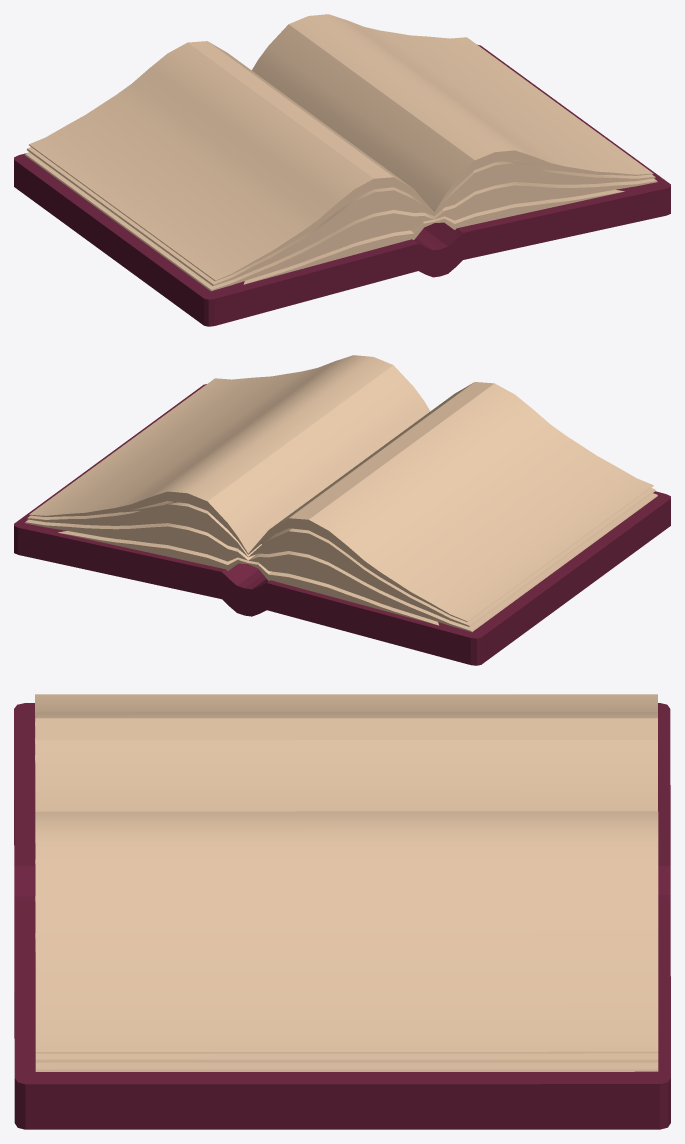
File: BookOpen.fbx
3 views of the same model, one above another, from view 1: azimuth 30°, elevation 25°; view 2: azimuth 150°, elevation 25°; view 3: azimuth 270°, elevation 25° (orthographic). The views are drawn at different scales.
Visible parts, largest first — view 1: OpenBook; view 2: OpenBook; view 3: OpenBook.
Boxes of the visible parts, <box> form: OpenBook: <box>14,14,670,326</box>; OpenBook: <box>14,355,670,665</box>; OpenBook: <box>14,694,670,1129</box>.
Size of the model in its own units: 51.93 by 11.45 by 37.8.
